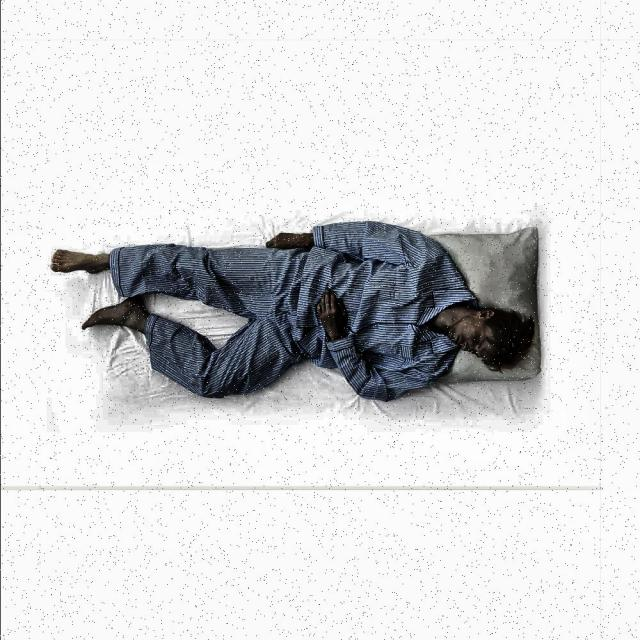Supine: (51, 221, 534, 401)
